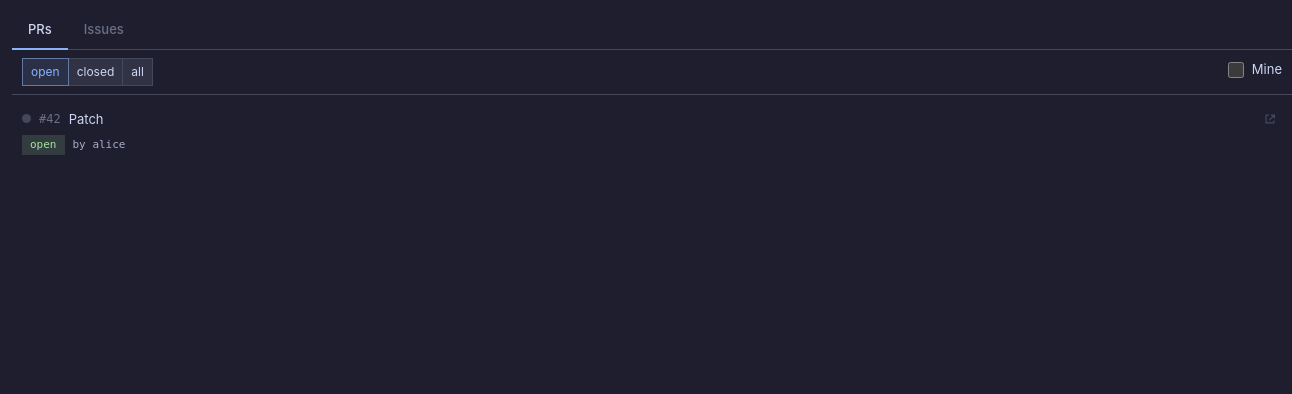
it: UpstreamPane owner-scoped resources › resets row launch state when the project changes
This screenshot has width=1292, height=394.
Step 1. Click the button "#42 Patch" → (86, 118), box [22, 110, 1252, 126]
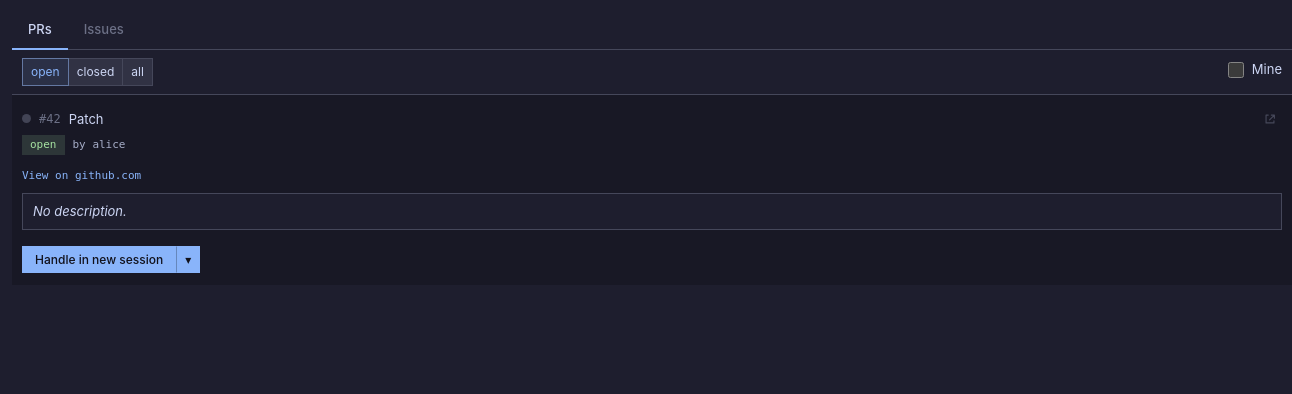
Step 2. Click the button with test id "launch-menu-toggle" → (188, 260), box [176, 246, 200, 273]
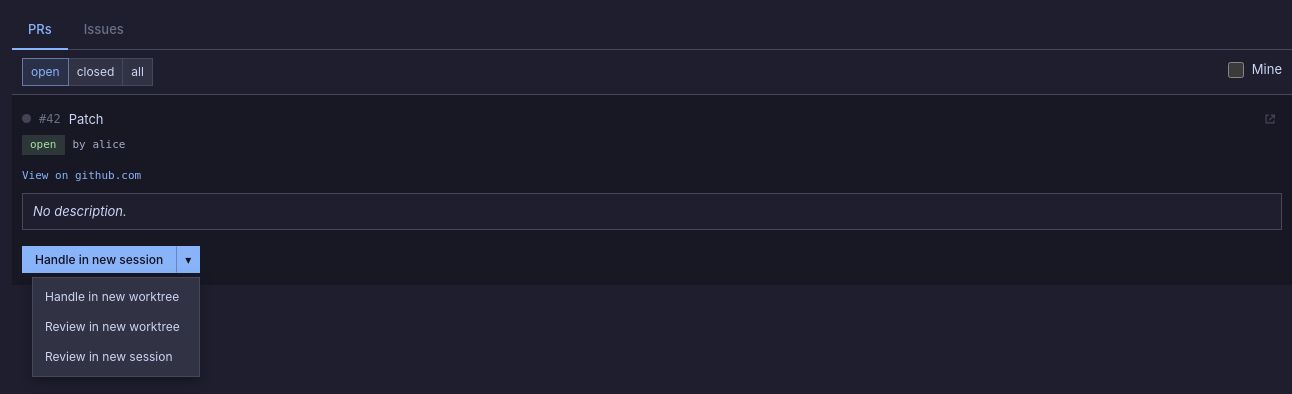
Expected: the menu is shown, [32, 277, 200, 377]
